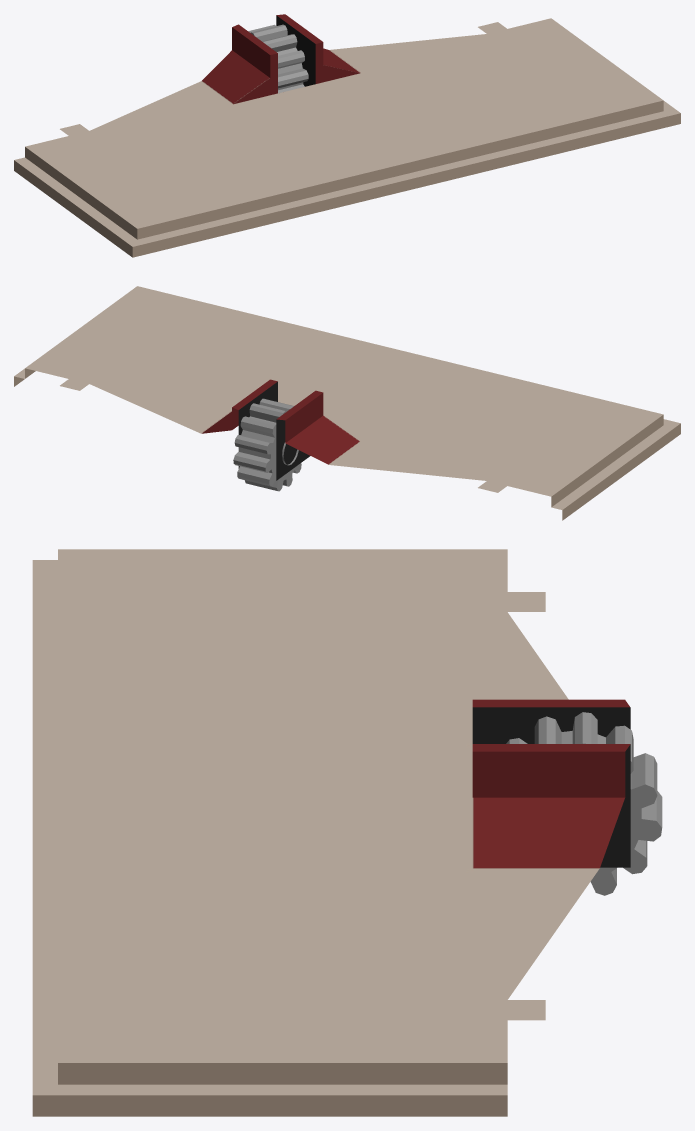
File: LevelElevator.FBX
3 renders of one model, top to bottom at view 1: azimuth 30°, elevation 25°; view 2: azimuth 150°, elevation 25°; view 3: azimuth 270°, elevation 25°, orthographic. The views are drawn at different scales.
Parts seen in each view (by area): view 1: LevelElevatorPlatform, ElevatorBigGear; view 2: LevelElevatorPlatform, ElevatorBigGear; view 3: LevelElevatorPlatform, ElevatorBigGear.
Part boxes in pixels (x1,y1,x2,y2): LevelElevatorPlatform: (14,14,680,257); ElevatorBigGear: (248,24,308,93); LevelElevatorPlatform: (14,286,680,520); ElevatorBigGear: (233,398,301,491); LevelElevatorPlatform: (32,549,630,1116); ElevatorBigGear: (506,712,662,895).
Size of the model in its own units: 400 by 55.31 by 199.
2 materials, 1 textured.
